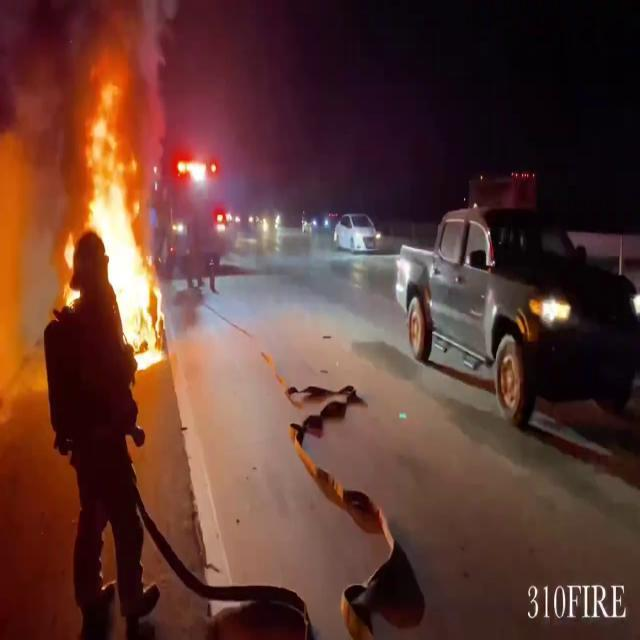Fire: (64, 69, 168, 370)
Smoke: (0, 2, 84, 308)
